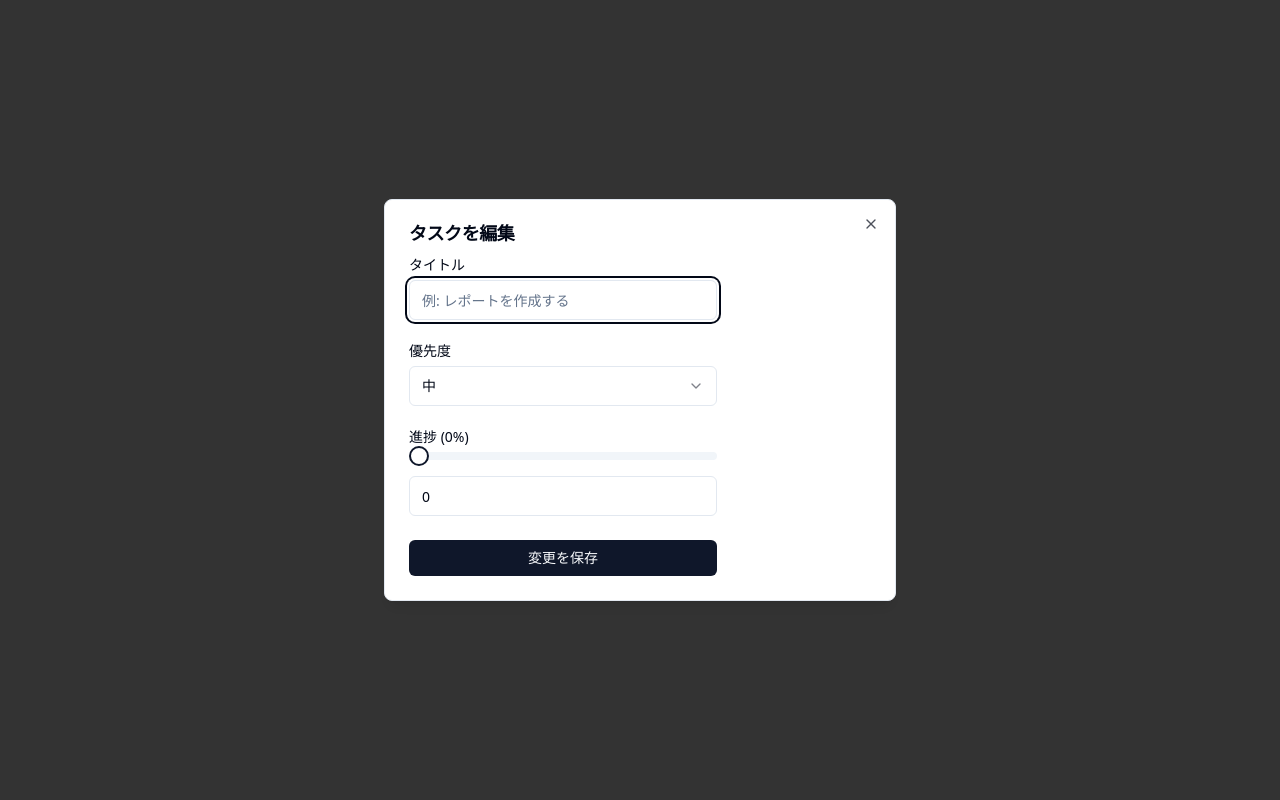
Scenario: TodoEditModal › 進捗率の数値入力で範囲外の値を入力しても補正されること
100を超える値を入力
Replace the text in the number field with "150" at {"x": 563, "y": 496}, box x1=409 y1=476 x2=717 y2=516
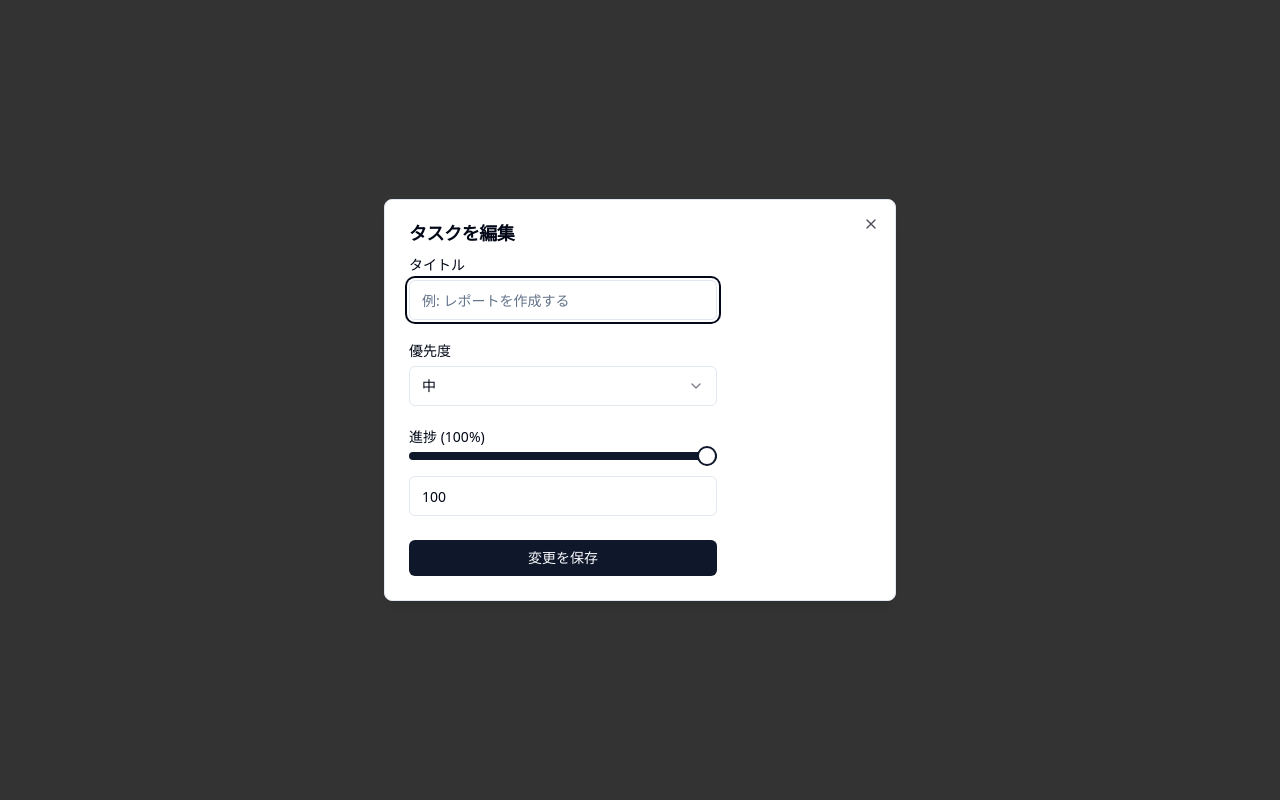
Result: the number field holds "100"
Replace the text in the number field with "-10" at {"x": 563, "y": 496}, box x1=409 y1=476 x2=717 y2=516
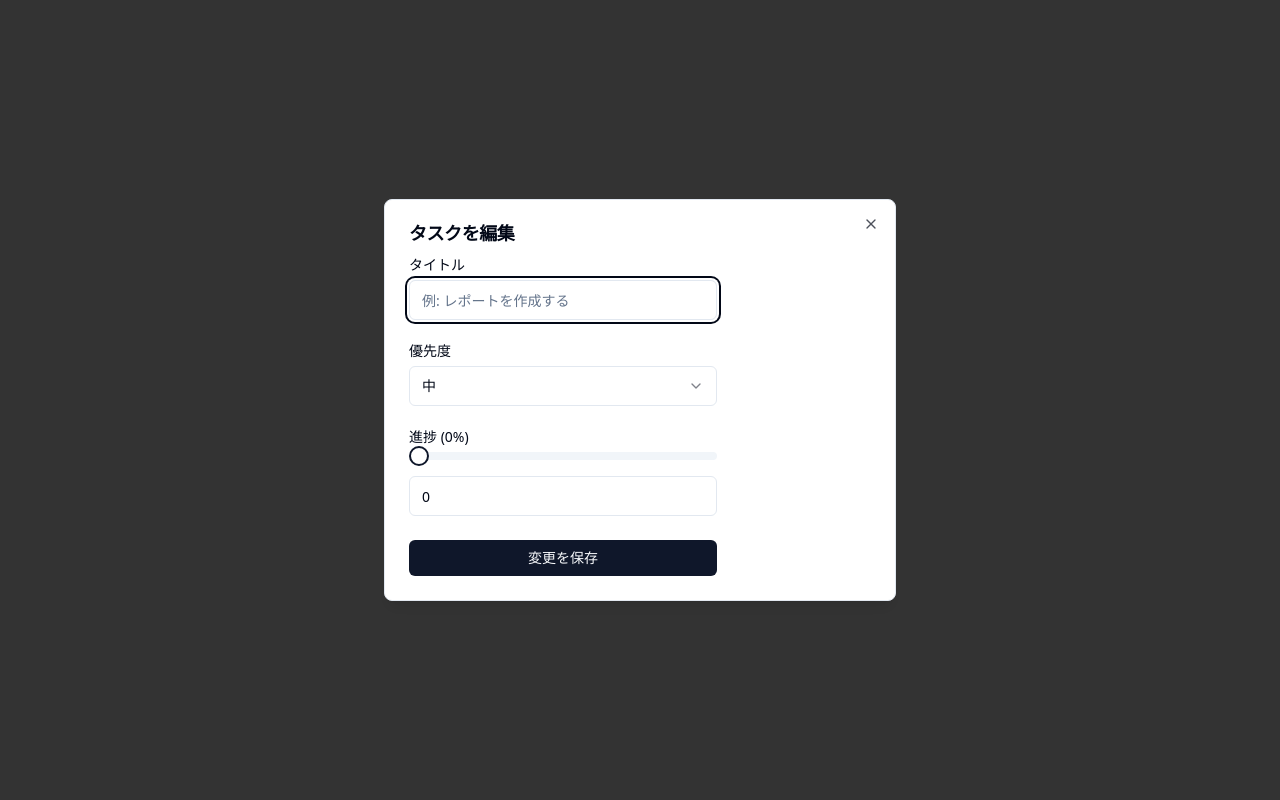
Result: the number field holds "0" at x1=409 y1=476 x2=717 y2=516
